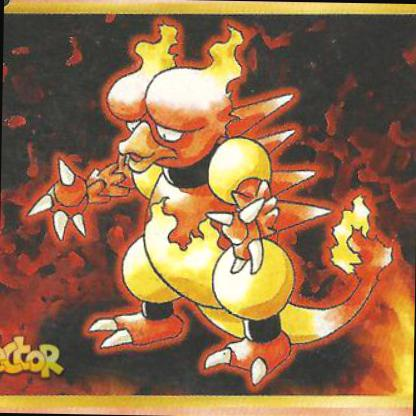Magmar: (14, 0, 385, 399)
